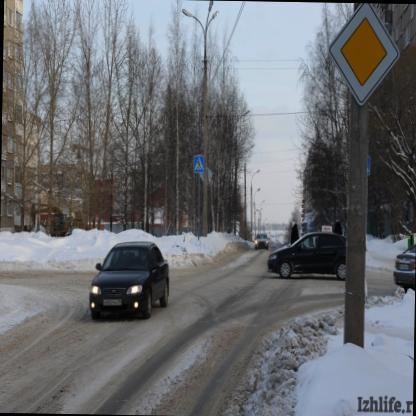road_sign: (329, 4, 399, 105), (193, 155, 206, 175)
